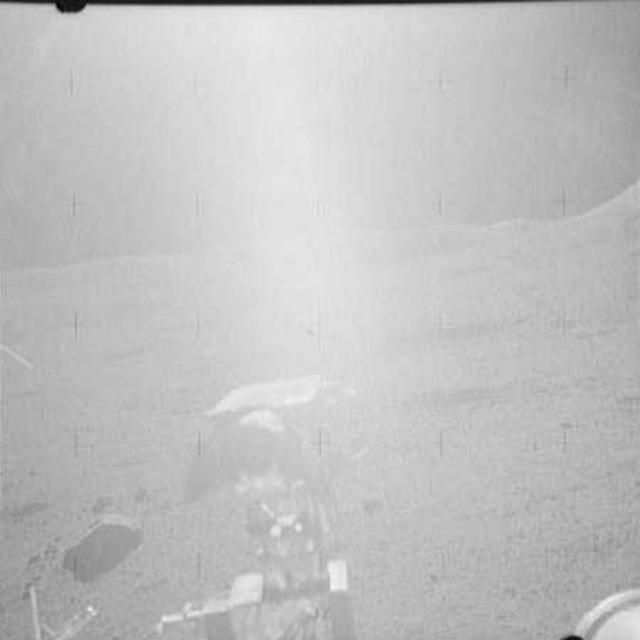artifact: (156, 356, 390, 638), (10, 578, 109, 638), (563, 573, 639, 639)
rock: (66, 509, 155, 559)
